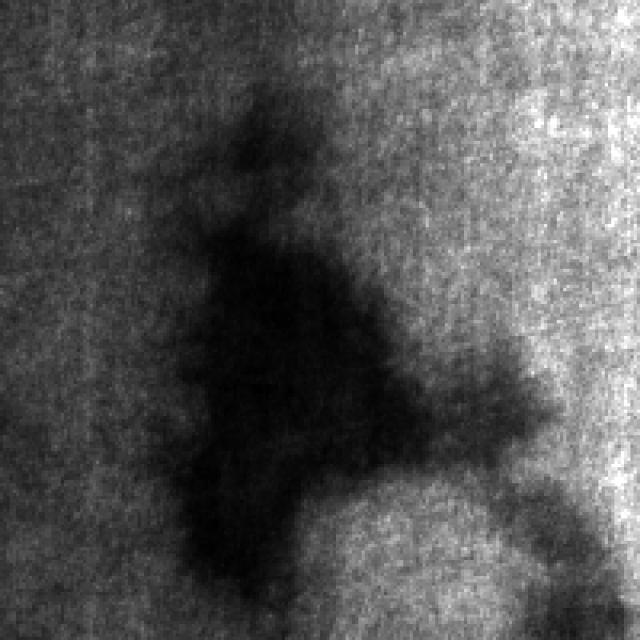patches: (130, 244, 451, 550), (193, 54, 353, 210), (488, 483, 640, 630)
